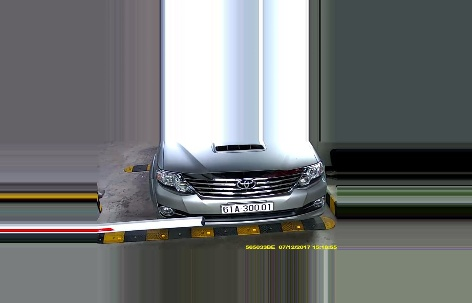plate: (218, 200, 278, 212)
